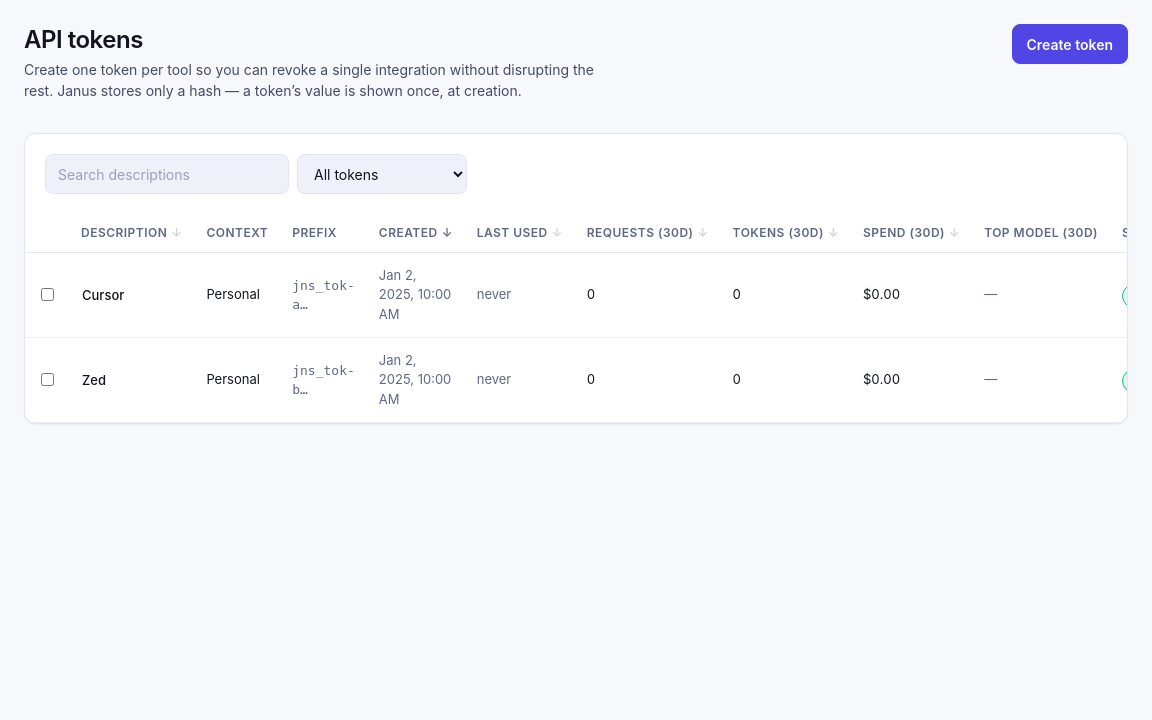
it: create and reveal-once › creates a token, reveals the value exactly once, then removes it from the DOM
The width and height of the screenshot is (1152, 720).
Step 1. Click the button "Create token" → (1070, 44), box [1012,24,1128,64]
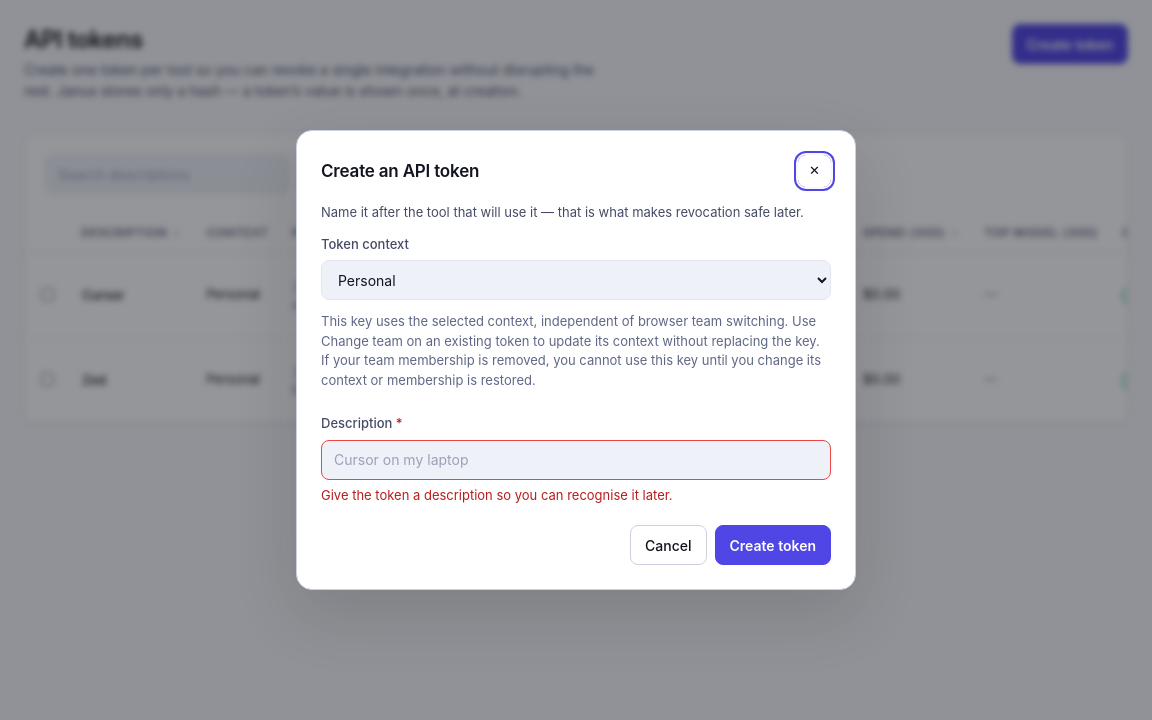
Step 2. Type "New laptop" into the field with placeholder "Cursor on my laptop" → (576, 460), box [321,440,831,480]
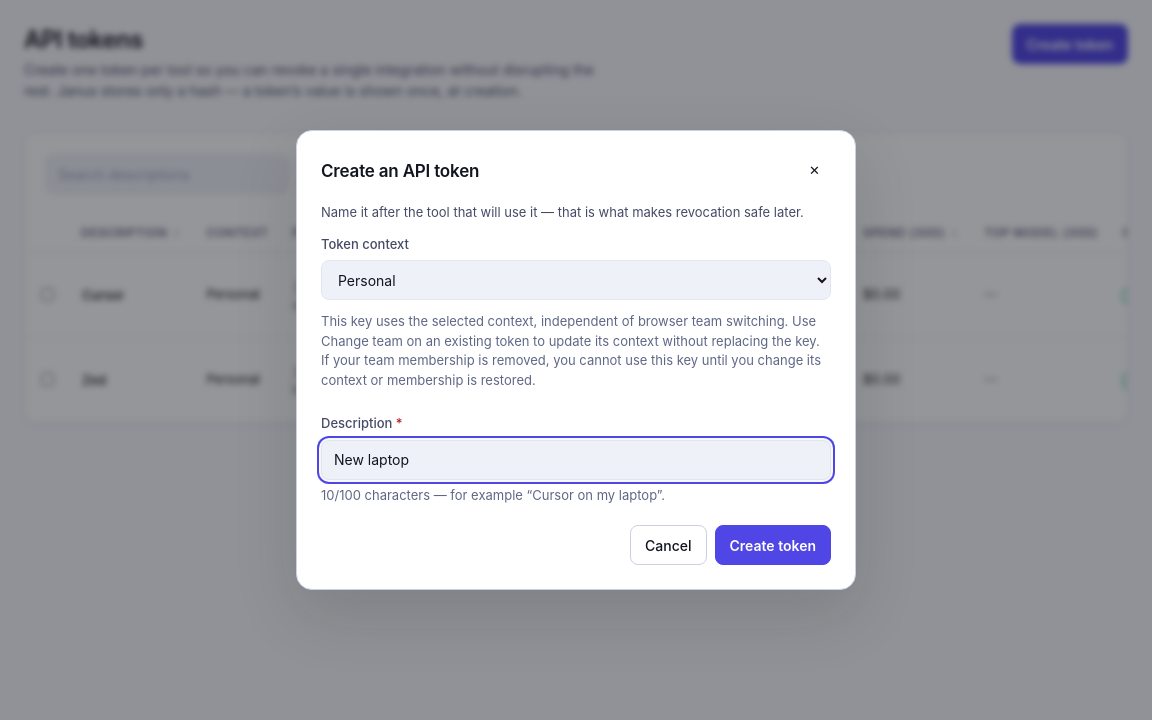
Step 3. Click the button "Create token" → (773, 545), box [714,525,831,565]
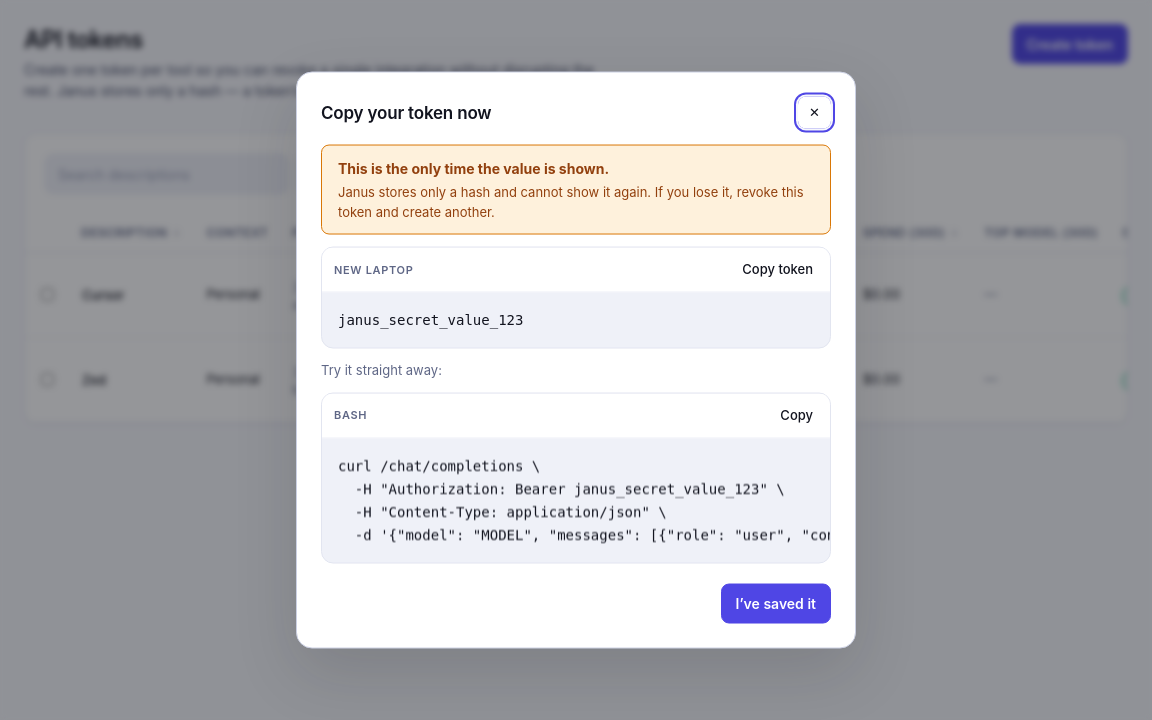
Expected: the text "This is the only time the value is shown." is shown, [338,160,609,176]
Expected: the text "janus_secret_value_123" is shown, [338,312,523,328]
Note: …and closing it removes the secret from the DOM for good.
Step 4. Click the button "I’ve saved it" → (776, 604), box [720,584,831,624]
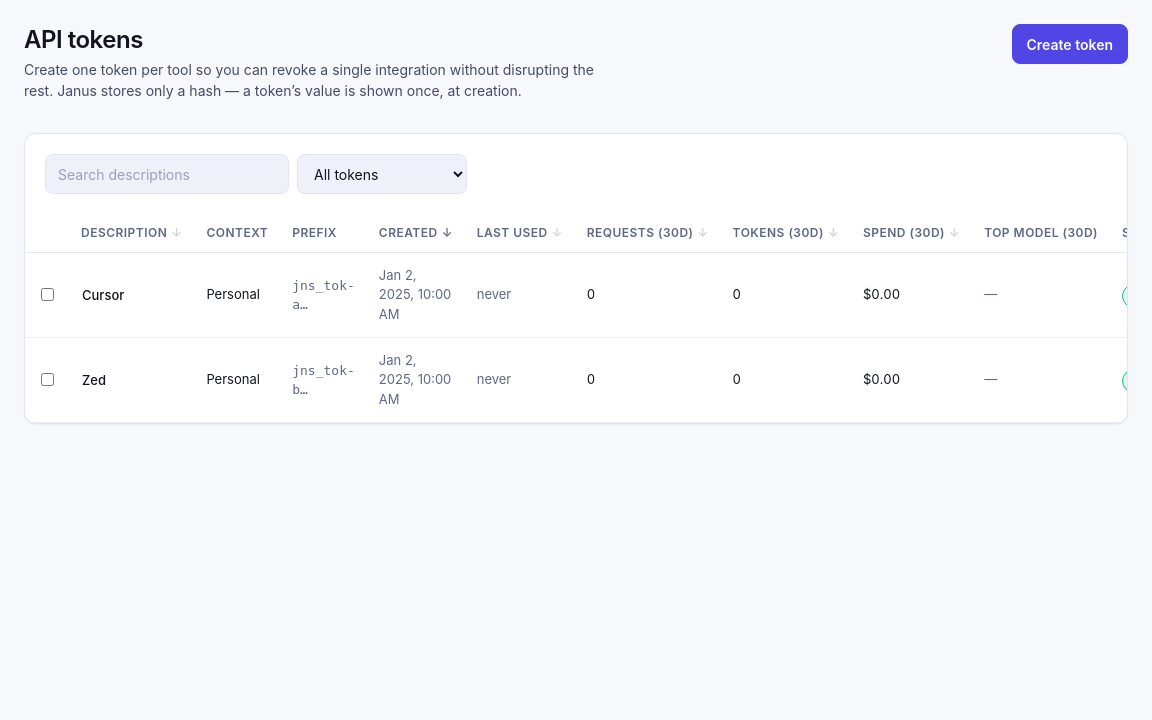
Expected: the text "janus_secret_value_123" is gone
Expected: the text "This is the only time the value is shown." is gone
